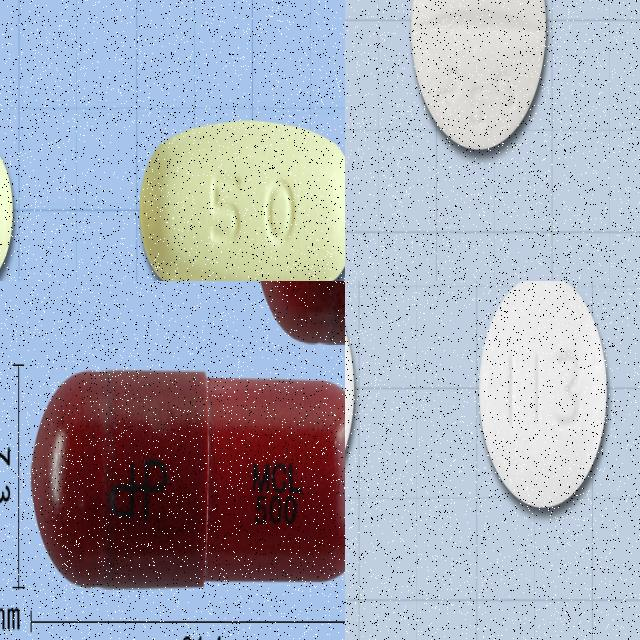Cephamethyl Cap: (28, 359, 345, 591)
Ciprobay: (405, 0, 556, 157)
Ciprofloxacin Hcl Tab- Ilyang: (474, 281, 614, 516)
Claroad: (139, 114, 345, 281)
